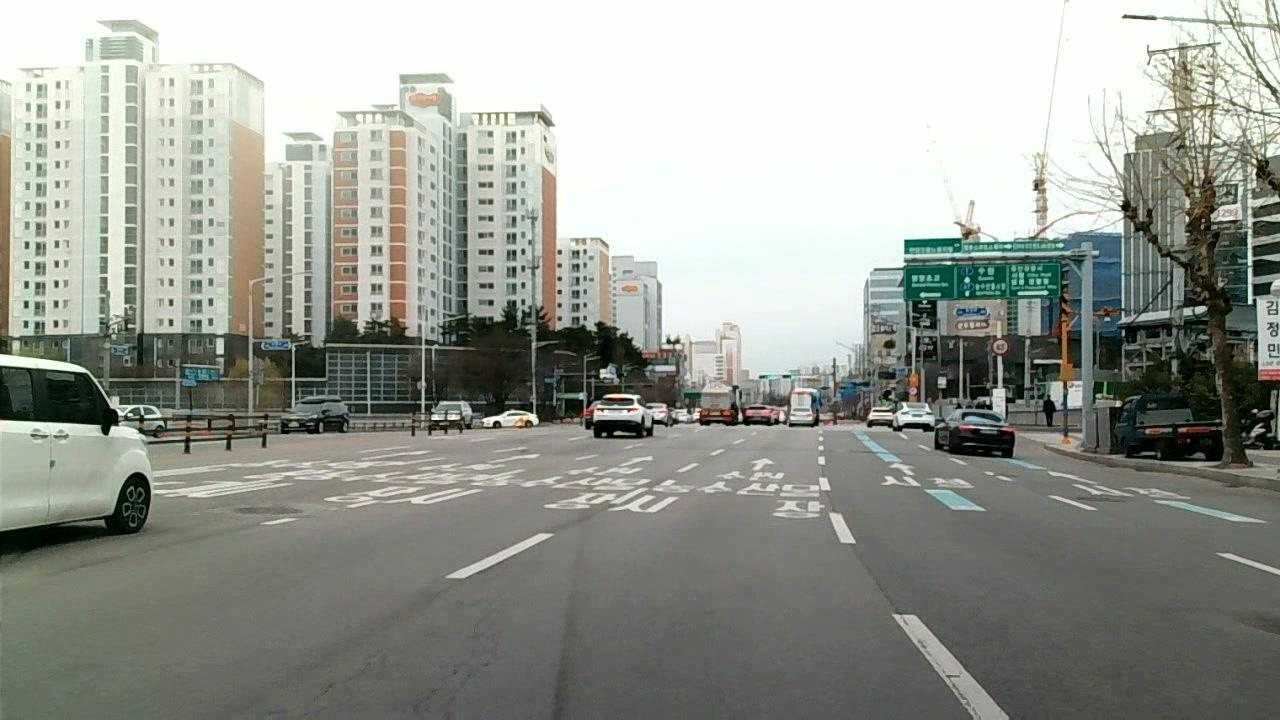vcrack: (397, 613, 503, 720), (846, 539, 901, 614), (39, 550, 144, 581), (824, 491, 835, 511), (818, 464, 825, 477)
